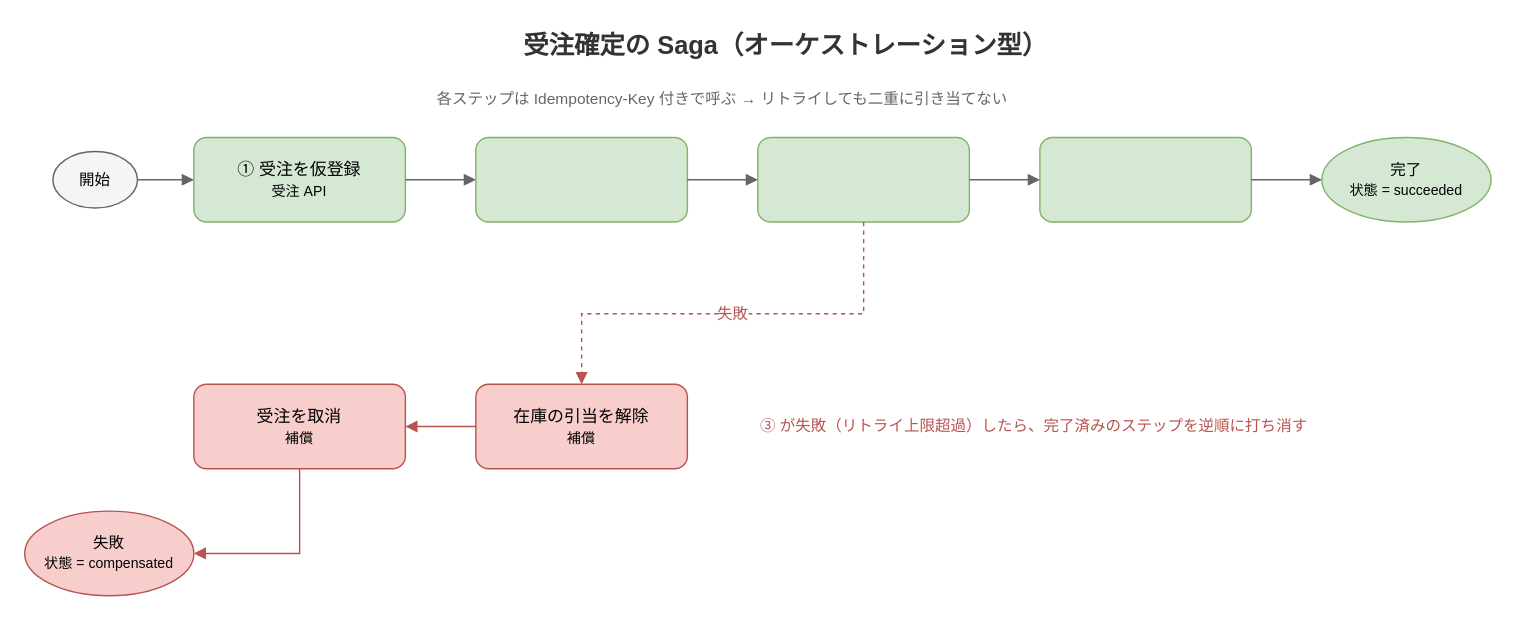
Image size: 1516x620. Some labels were removed from this diagram. The centre of each missing label's shape, as x and y in pixels:
"② 在庫を引当 在庫 API" goes at [580,179].
"③ 請求を作成 請求 API" goes at [862,179].
"④ 受注を確定 受注 API" goes at [1144,179].
